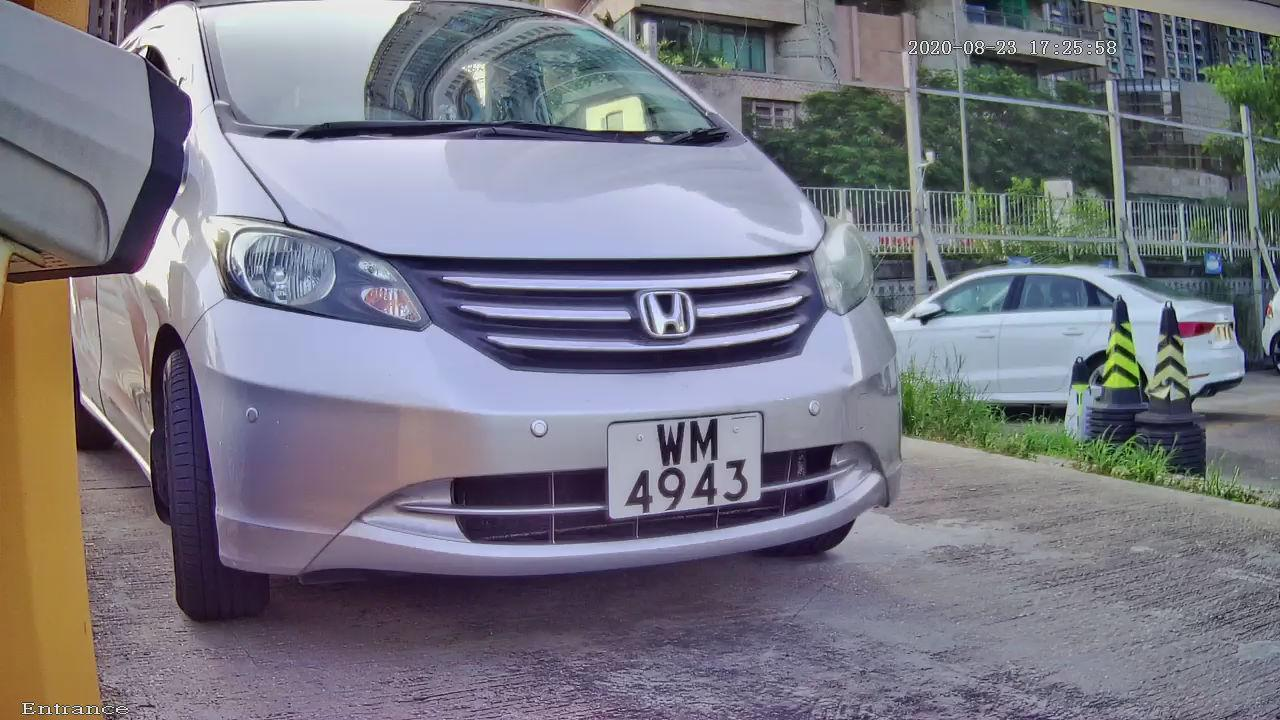Car: (35, 7, 989, 640)
License Plate: (583, 402, 778, 531)
